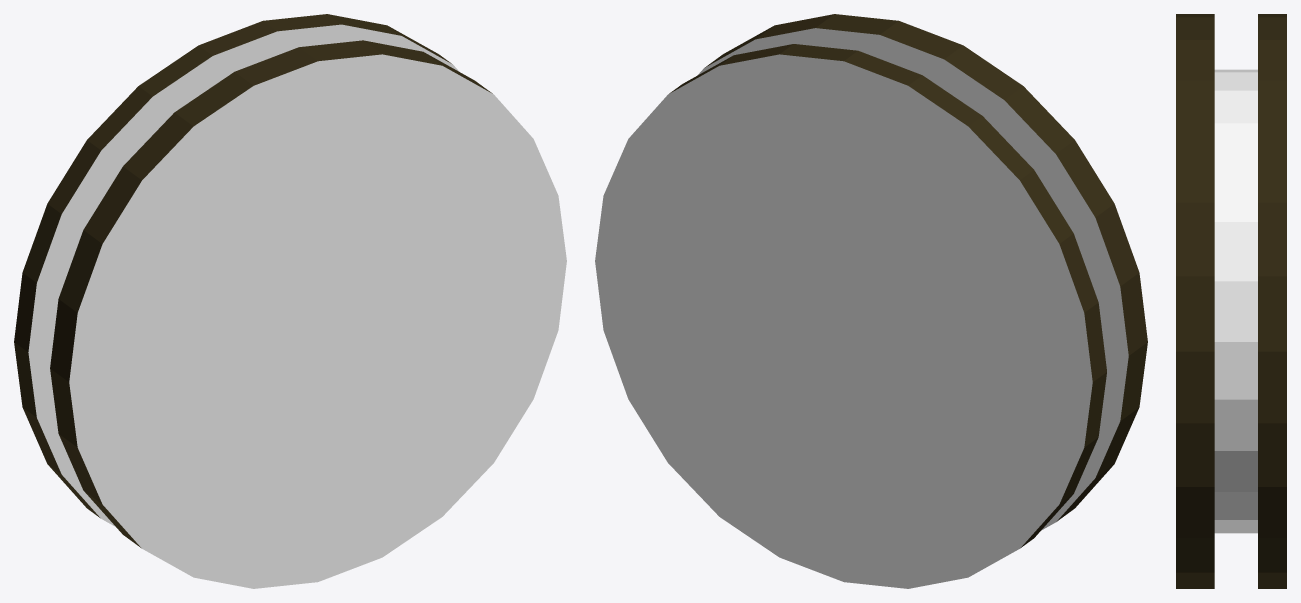
The picture shows the model from 3 angles, left to right: view 1: azimuth 30°, elevation 25°; view 2: azimuth 150°, elevation 25°; view 3: azimuth 270°, elevation 25°; orthographic projection.
Visible parts, largest first — view 1: oreo; view 2: oreo; view 3: oreo.
Part boxes in pixels (left/top/right/bottom): oreo: left=14, top=14, right=566, bottom=588; oreo: left=595, top=14, right=1147, bottom=588; oreo: left=1176, top=14, right=1286, bottom=588.
Size of the model in its own units: 1.96 by 1.96 by 0.3773.
